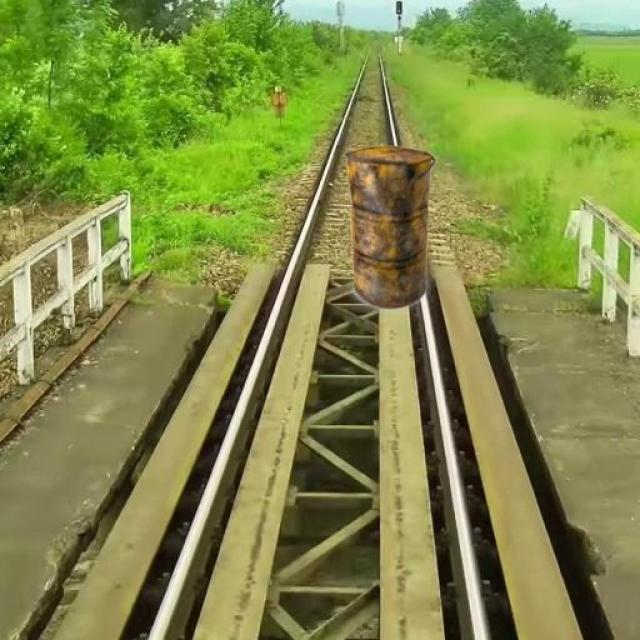Other_objects: (342, 145, 443, 318)
